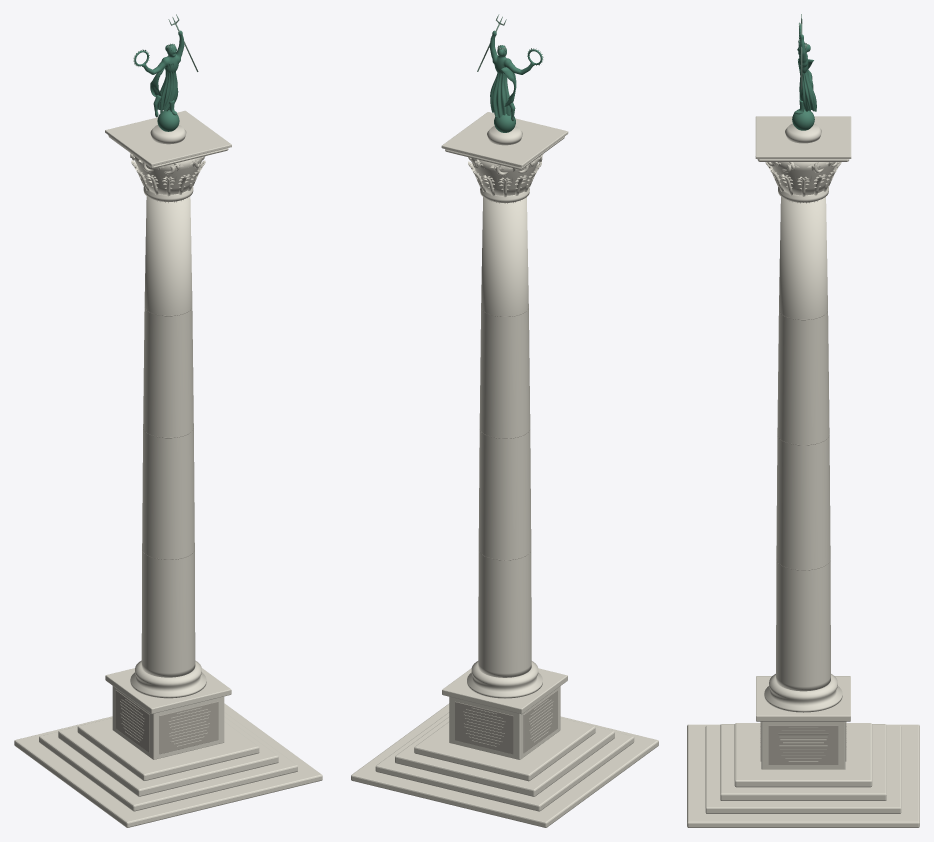
Rendered from dewey-monument.glb.
3 renders of one model, left to right at view 1: azimuth 30°, elevation 25°; view 2: azimuth 150°, elevation 25°; view 3: azimuth 270°, elevation 25°, orthographic. The views are drawn at different scales.
Parts seen in each view (by area): view 1: dewey-monument / Dewey / pale Sierra granite, dewey-monument / Dewey / cut stone shadow, dewey-monument / Victory / weathered green bronze; view 2: dewey-monument / Dewey / pale Sierra granite, dewey-monument / Dewey / cut stone shadow, dewey-monument / Victory / weathered green bronze; view 3: dewey-monument / Dewey / pale Sierra granite, dewey-monument / Dewey / cut stone shadow, dewey-monument / Victory / weathered green bronze.
Boxes of the visible parts, <box> form: dewey-monument / Dewey / pale Sierra granite: <box>14,110,322,827</box>; dewey-monument / Dewey / cut stone shadow: <box>115,308,218,754</box>; dewey-monument / Victory / weathered green bronze: <box>134,30,184,131</box>; dewey-monument / Dewey / pale Sierra granite: <box>351,112,658,827</box>; dewey-monument / Dewey / cut stone shadow: <box>455,307,557,754</box>; dewey-monument / Victory / weathered green bronze: <box>489,30,542,132</box>; dewey-monument / Dewey / pale Sierra granite: <box>687,116,919,827</box>; dewey-monument / Dewey / cut stone shadow: <box>760,311,846,764</box>; dewey-monument / Victory / weathered green bronze: <box>792,24,816,130</box>.
Bounding box in the file's own units: 8.8 × 32.07 × 8.8.
